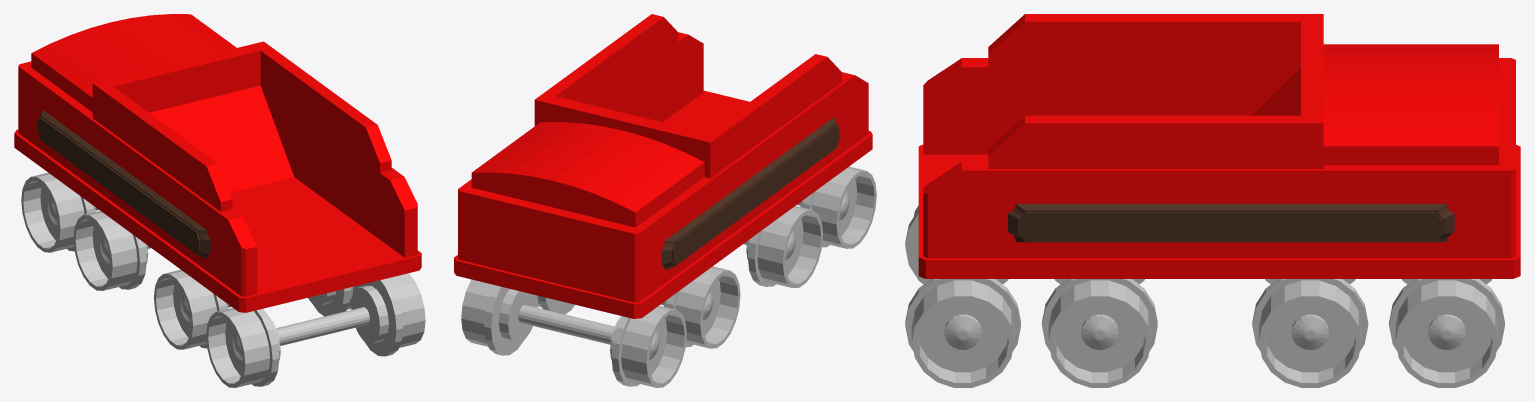
Rendered from Train_Wagon1.obj.
3 renders of one model, left to right at view 1: azimuth 30°, elevation 25°; view 2: azimuth 150°, elevation 25°; view 3: azimuth 270°, elevation 25°, orthographic. The views are drawn at different scales.
Parts seen in each view (by area): view 1: object_3, object_2, object_1, object_7, object_12, object_11, object_5, object_4, object_6, object_10; view 2: object_2, object_3, object_1, object_12, object_4, object_8, object_6, object_7, object_5, object_9; view 3: object_3, object_2, object_1, object_13, object_9, object_8, object_10, object_11, object_7.
Part boxes in pixels (x1,y1,x2,y2): object_3: [178, 41, 421, 291]; object_2: [14, 61, 332, 312]; object_1: [31, 14, 236, 111]; object_7: [206, 308, 320, 387]; object_12: [37, 110, 210, 258]; object_11: [314, 273, 425, 356]; object_5: [73, 210, 150, 290]; object_4: [21, 172, 98, 252]; object_6: [154, 269, 231, 349]; object_10: [308, 287, 353, 316]; object_2: [545, 54, 872, 318]; object_3: [454, 14, 749, 297]; object_1: [471, 122, 704, 227]; object_12: [661, 117, 839, 270]; object_4: [569, 305, 686, 387]; object_8: [461, 279, 575, 355]; object_6: [743, 205, 823, 288]; object_7: [797, 166, 876, 248]; object_5: [661, 266, 740, 348]; object_9: [537, 295, 574, 314]; object_3: [918, 68, 1520, 278]; object_2: [918, 14, 1520, 201]; object_1: [1323, 44, 1498, 165]; object_13: [1008, 204, 1454, 242]; object_9: [1252, 279, 1368, 387]; object_8: [1389, 279, 1504, 387]; object_10: [1042, 279, 1157, 387]; object_11: [905, 279, 1020, 387]; object_7: [905, 205, 1008, 284].
Bounding box in the file's own units: 3.5 × 3.59 × 7.49.
